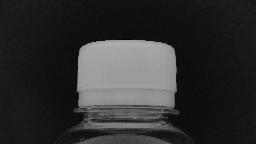Good Cap: (70, 35, 182, 119)
